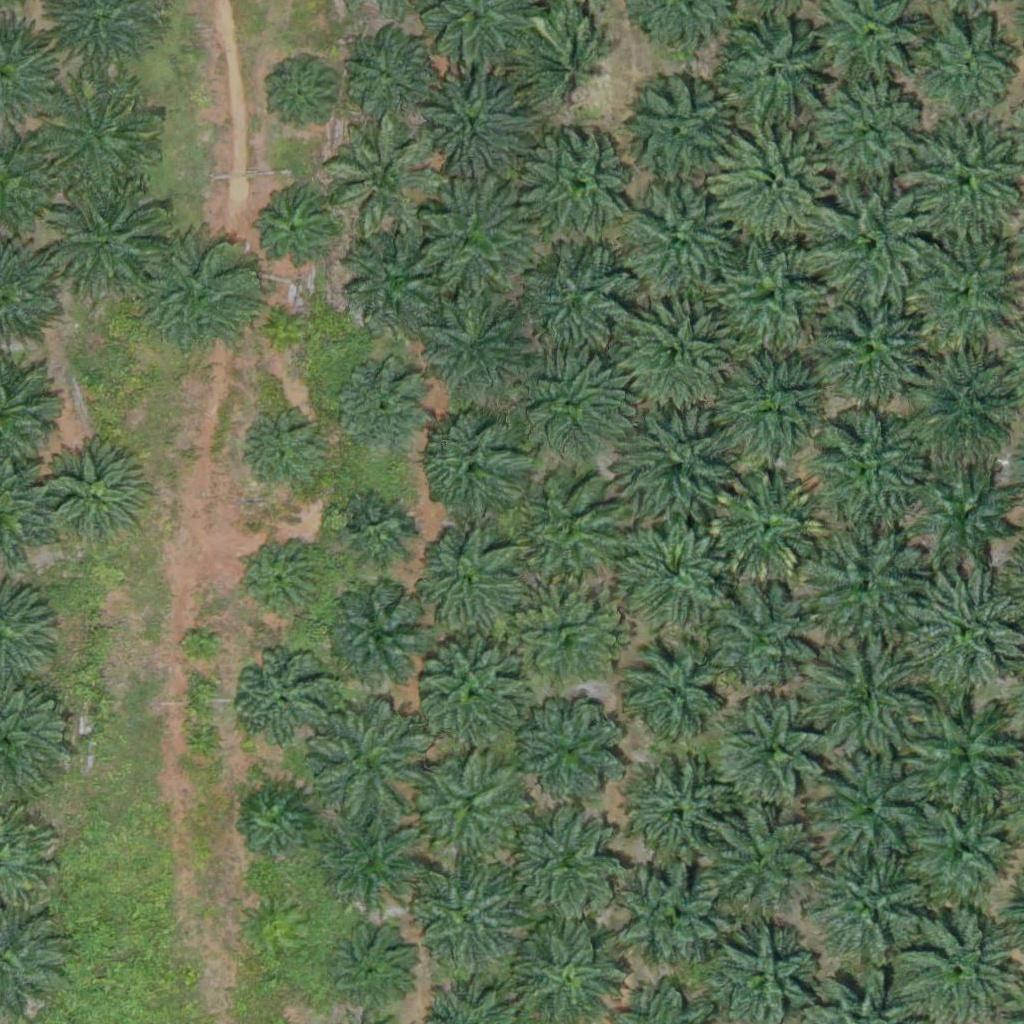Kelapa_Sawit: (37, 83, 162, 209), (412, 66, 537, 192), (520, 127, 645, 253), (617, 72, 742, 198), (726, 127, 851, 253), (710, 5, 835, 131), (897, 568, 1022, 694), (897, 231, 1022, 357), (809, 181, 934, 307), (805, 284, 930, 410), (805, 403, 930, 529), (803, 523, 928, 649), (793, 638, 918, 764), (414, 173, 539, 299), (39, 176, 164, 302), (303, 697, 428, 823), (809, 746, 934, 872), (807, 840, 932, 966), (139, 230, 264, 355), (717, 239, 830, 353), (717, 347, 830, 461), (326, 120, 439, 233), (817, 76, 930, 189), (512, 473, 625, 586), (506, 579, 619, 692), (418, 640, 531, 753), (408, 524, 521, 637), (418, 408, 531, 521), (423, 290, 536, 403), (39, 443, 152, 556), (516, 690, 629, 803), (624, 760, 737, 873), (511, 805, 624, 918), (609, 856, 722, 969), (513, 12, 625, 126), (620, 299, 732, 413), (624, 188, 736, 302), (703, 807, 815, 921), (711, 469, 823, 582), (710, 585, 822, 698), (617, 638, 729, 751), (617, 514, 729, 627), (624, 412, 736, 525), (516, 246, 628, 359), (515, 347, 627, 460), (343, 229, 455, 342), (718, 694, 830, 807), (416, 756, 528, 869), (317, 807, 429, 920), (412, 863, 524, 976), (339, 32, 439, 133), (914, 16, 1014, 117), (336, 358, 436, 459), (328, 589, 428, 690), (915, 462, 1015, 562), (232, 652, 332, 752), (241, 410, 329, 498), (239, 538, 327, 626), (251, 186, 339, 274), (329, 921, 416, 1009), (238, 786, 313, 862), (264, 62, 339, 137), (340, 493, 415, 568), (274, 309, 312, 347), (182, 629, 219, 667)
